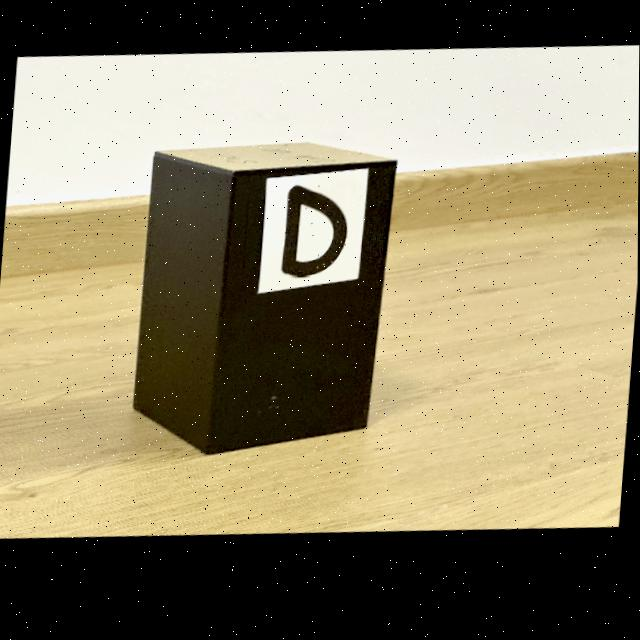D: (281, 191, 347, 282)
